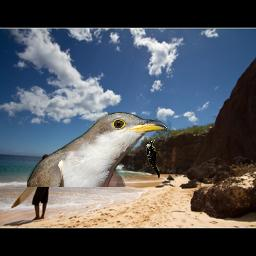Cuckoo: (27, 112, 168, 187)
Woodpecker: (144, 138, 164, 181)
